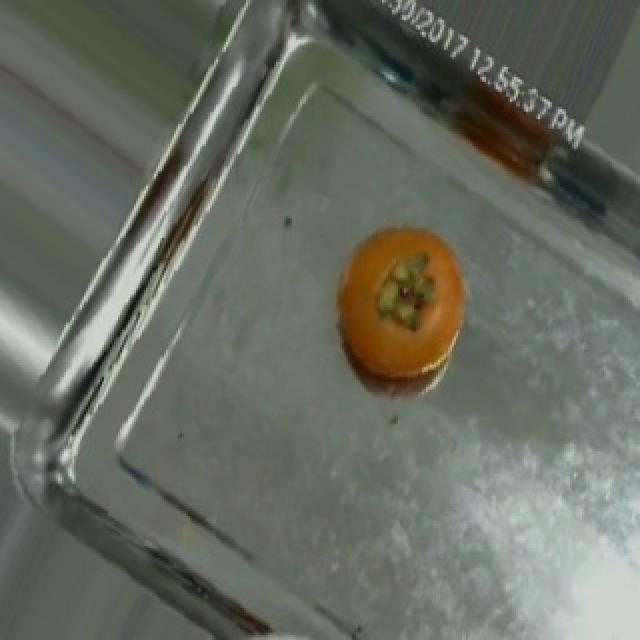Fruit: (312, 203, 492, 404)
